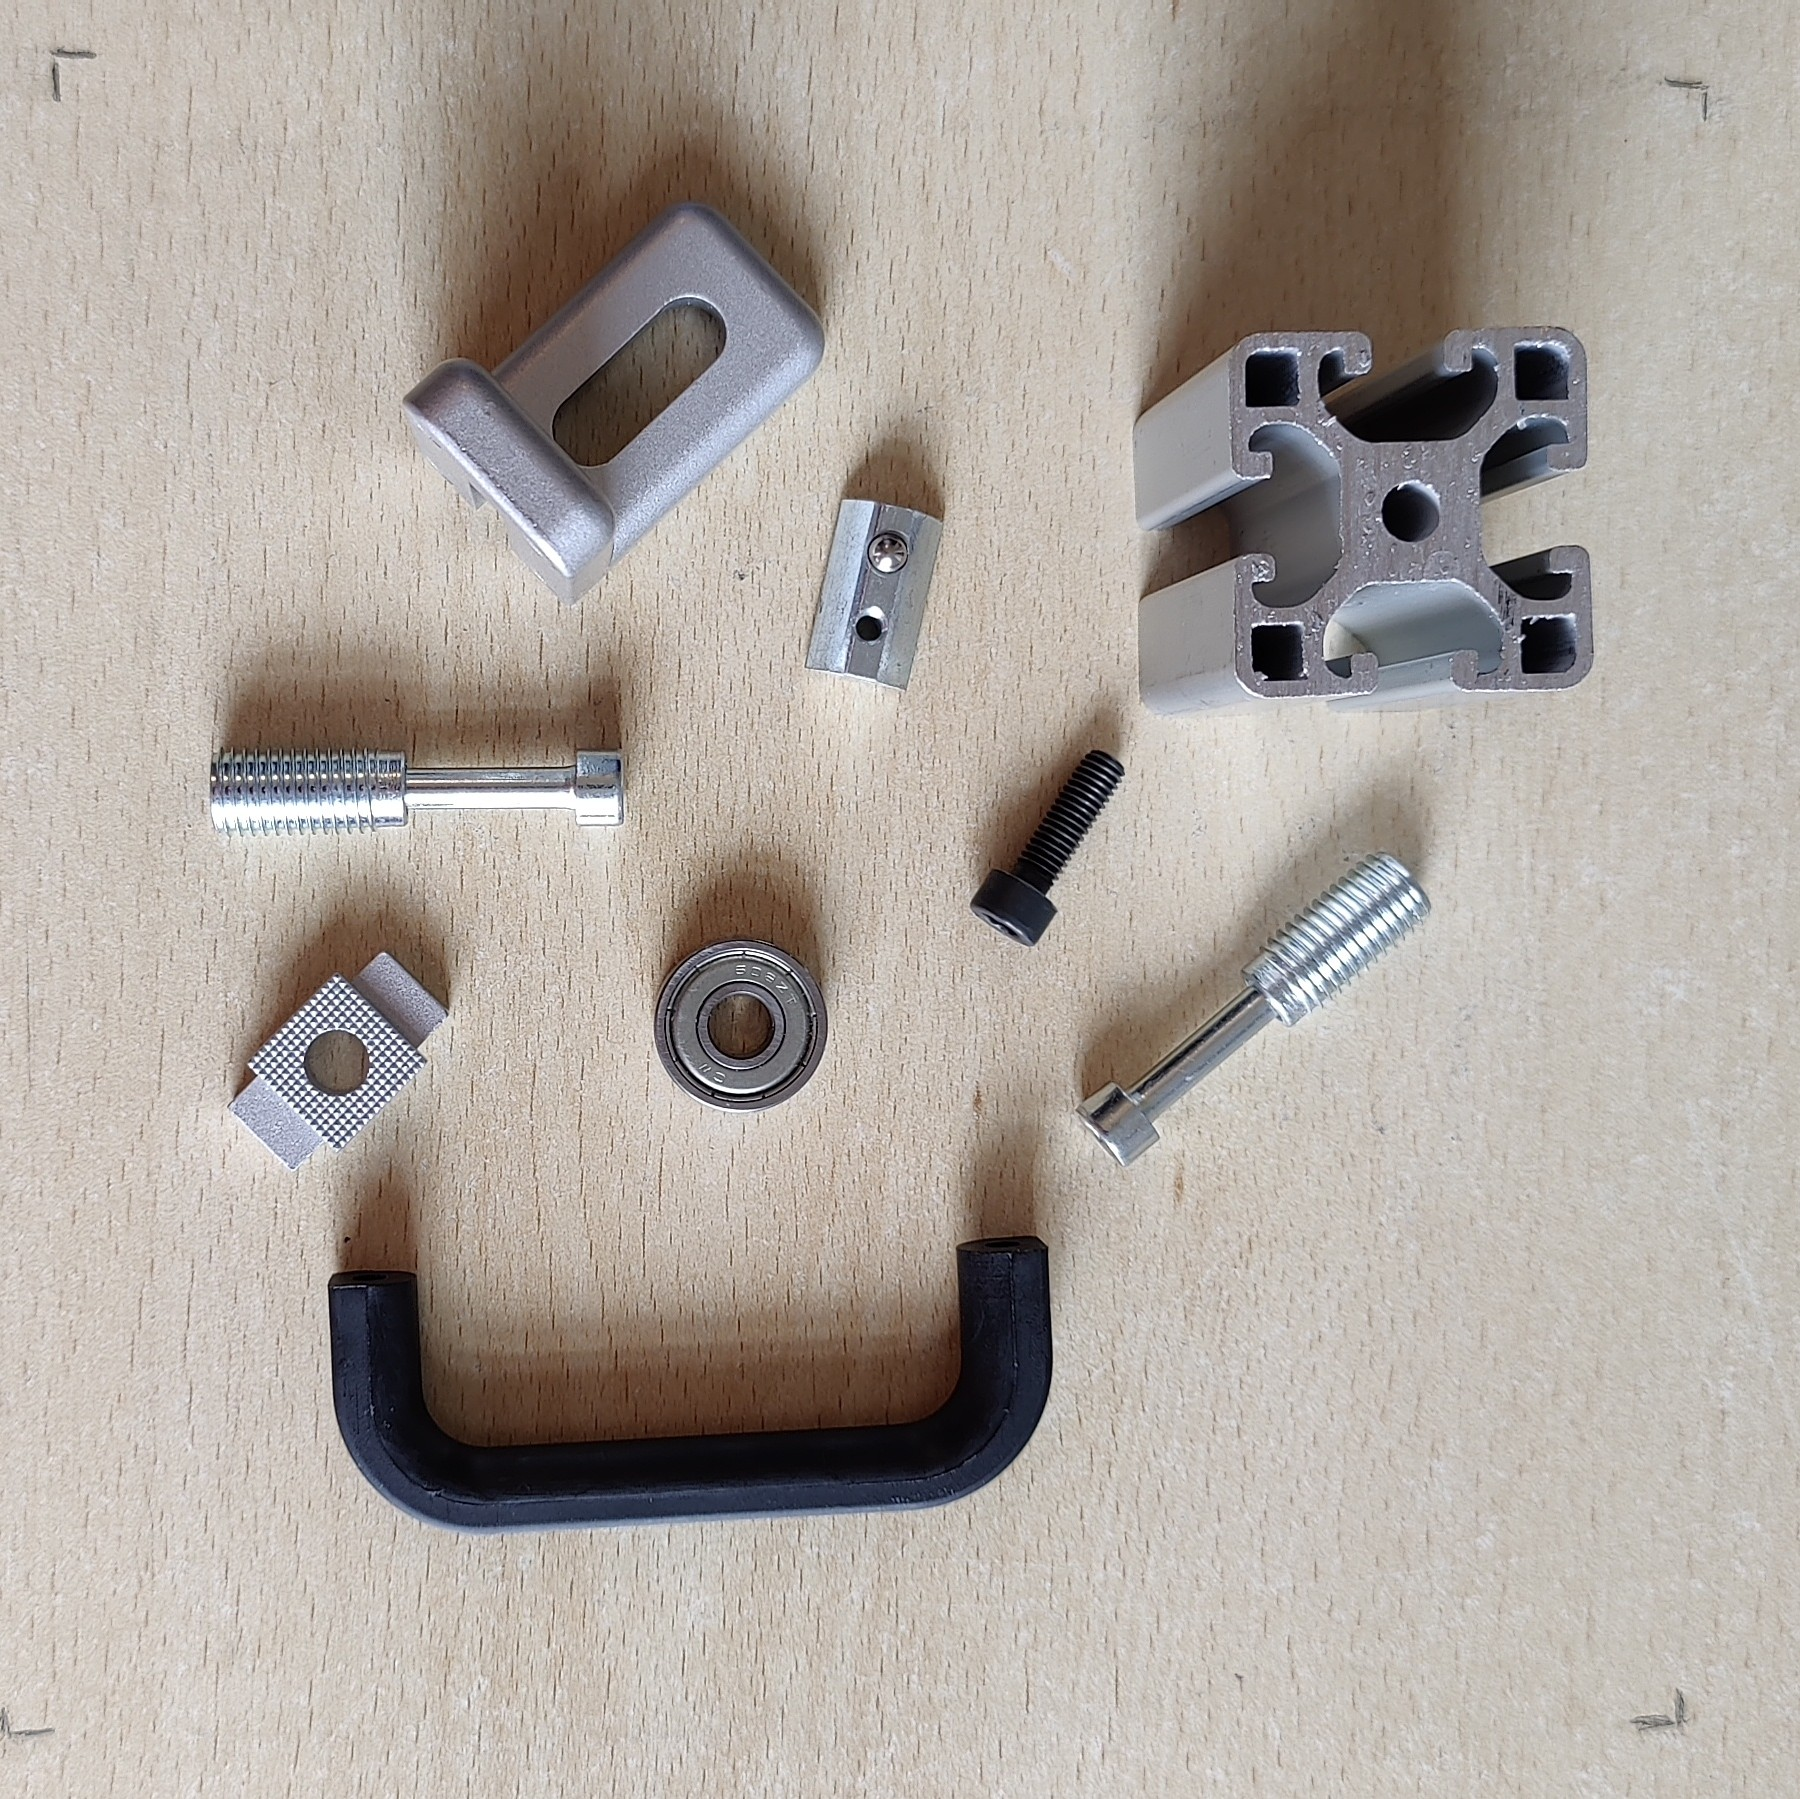Aluminium Extension: (1131, 320, 1597, 722)
Ball Bearing: (652, 934, 828, 1114)
Multiwinkel: (399, 199, 828, 606)
Pull Handle: (323, 1231, 1056, 1539)
Shoulder Socket Head Cap Screw: (1070, 843, 1431, 1173), (204, 741, 632, 842)
Socket Head Cap Screw: (967, 745, 1128, 947)
T Nut Square: (224, 946, 451, 1173)
T Spring Nut: (800, 496, 945, 695)
